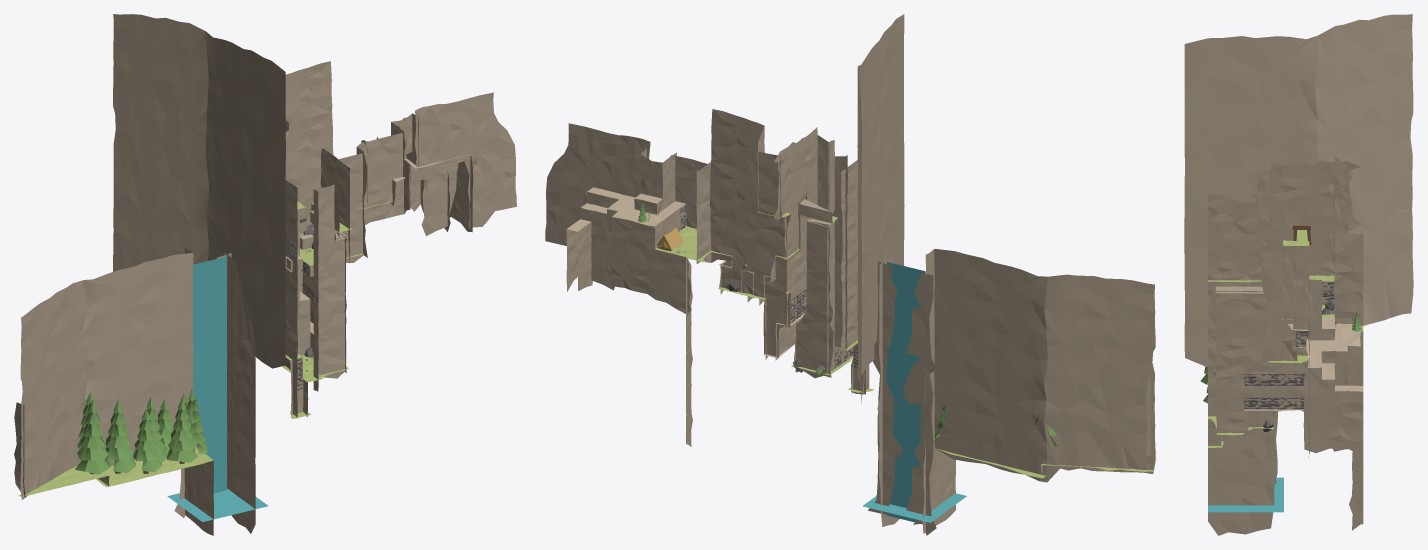
3 views of the same model, side by side, from view 1: azimuth 30°, elevation 25°; view 2: azimuth 150°, elevation 25°; view 3: azimuth 270°, elevation 25° (orthographic). The views are drawn at different scales.
Visible parts, largest first — view 1: 9; view 2: 9; view 3: 9.
Boxes of the visible parts, bbox=[...] form: 9: bbox=[14, 14, 516, 535]; 9: bbox=[545, 14, 1155, 535]; 9: bbox=[1184, 14, 1413, 535].
Size of the model in its own units: 51.92 by 43.18 by 17.72.
Materials: 1 (1 with a texture image).
